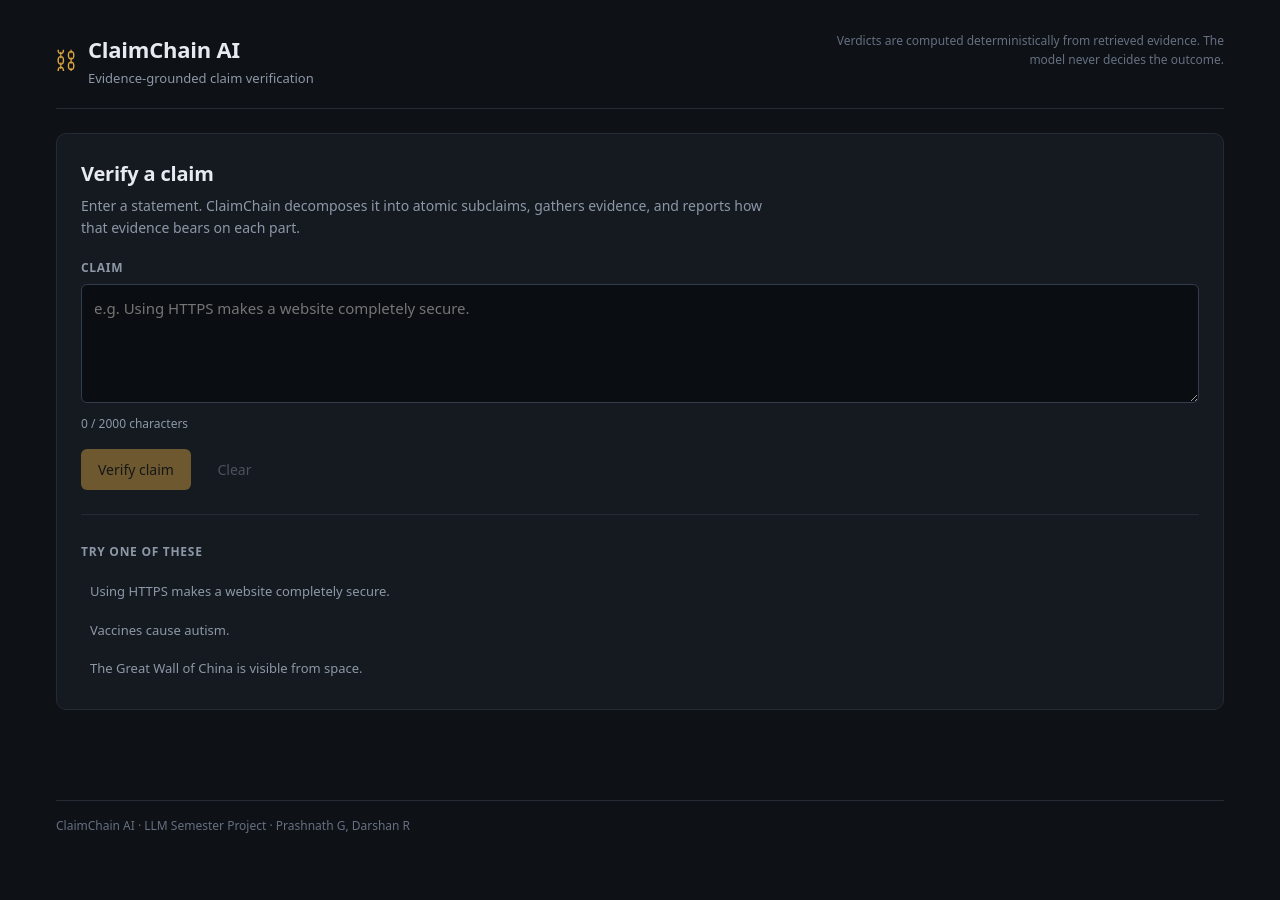
it: App › shows an error state when a pipeline stage fails
In the text box: (640, 343) 81,284 -> 1199,403, type "Using HTTPS makes a website completely secure."
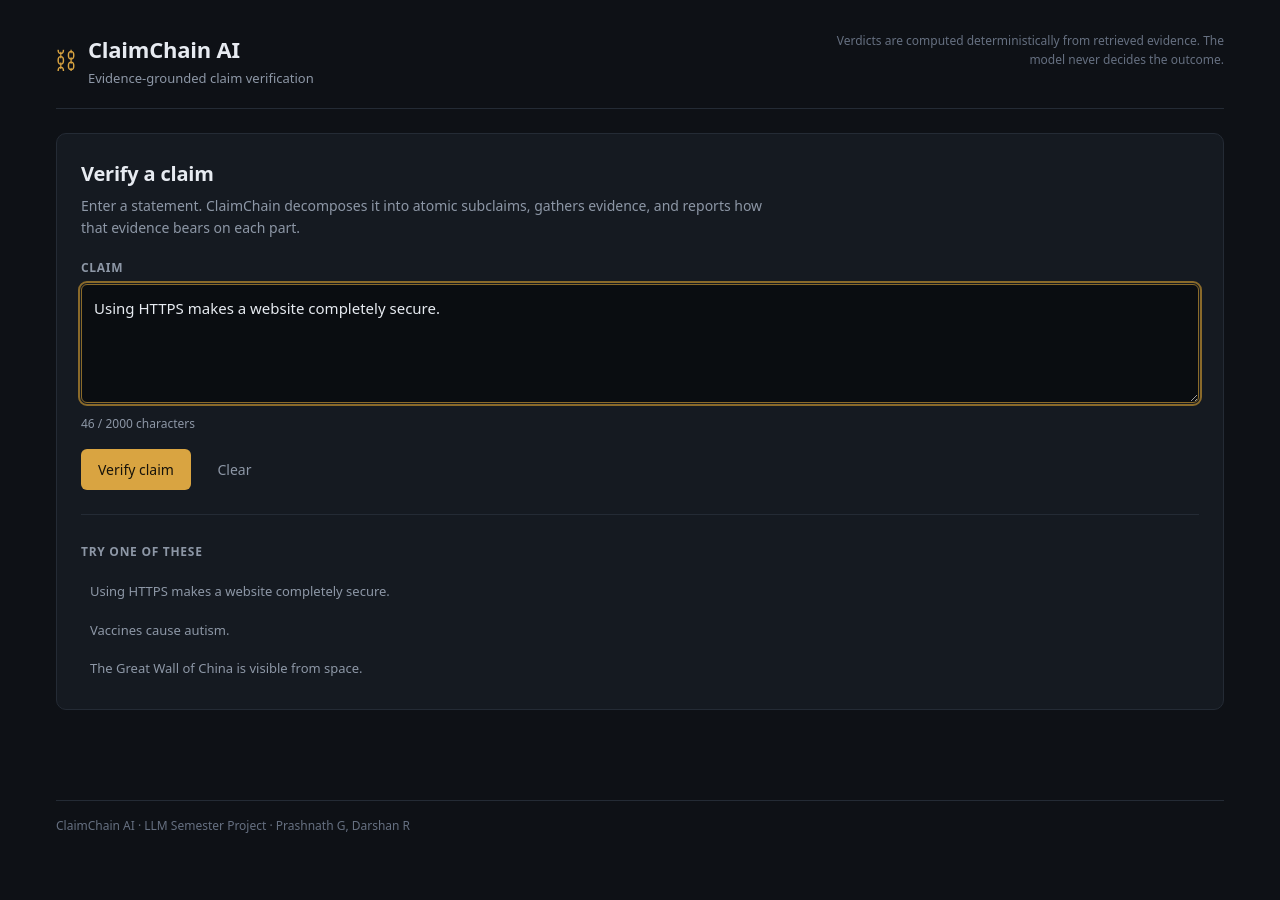
Click the button "Verify claim": (136, 470) 81,449 -> 191,490
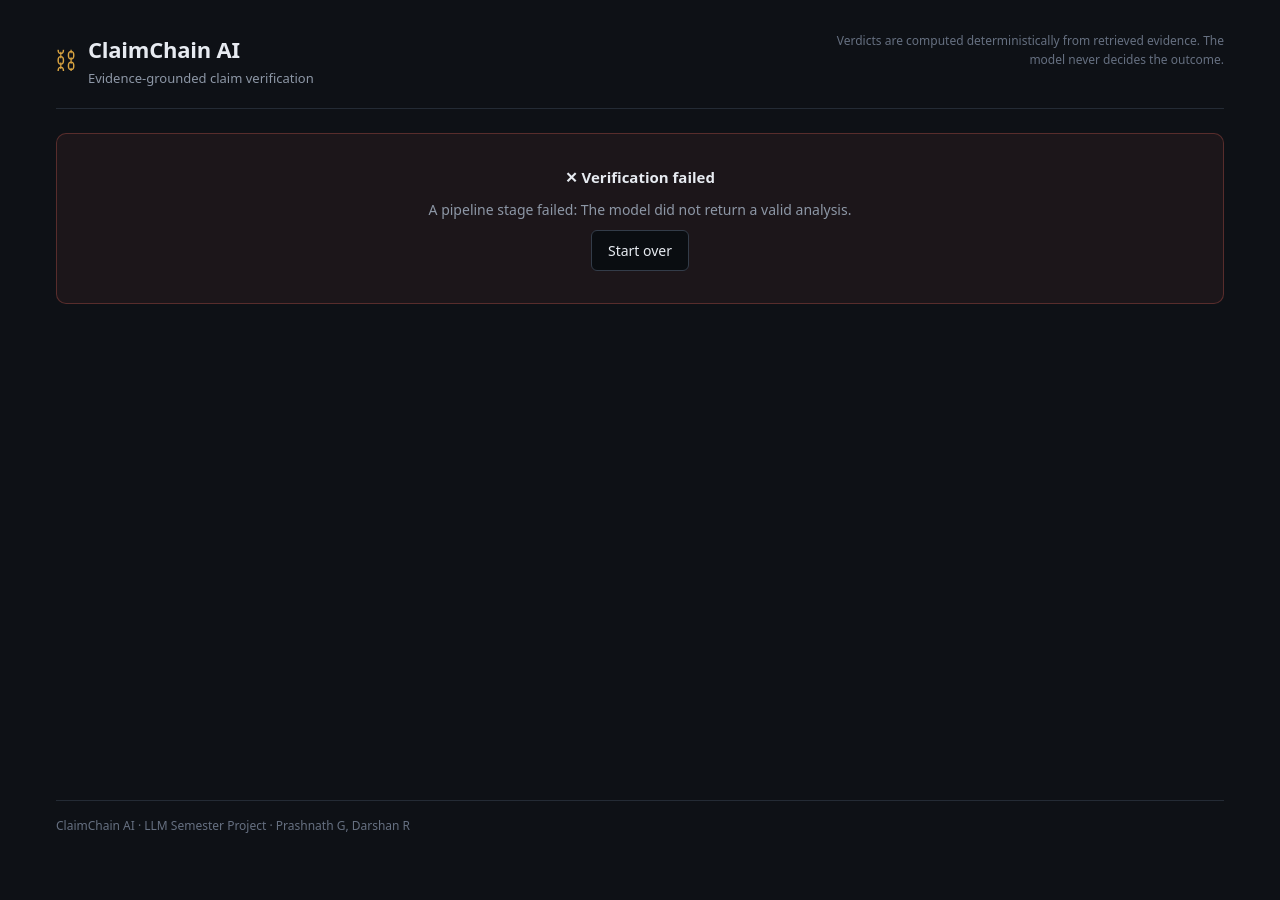
Expected: the text "✕ Verification failed" is shown, 565,166 -> 715,189
Expected: the text "The model did not return a valid analysis" is shown, 429,200 -> 852,219
